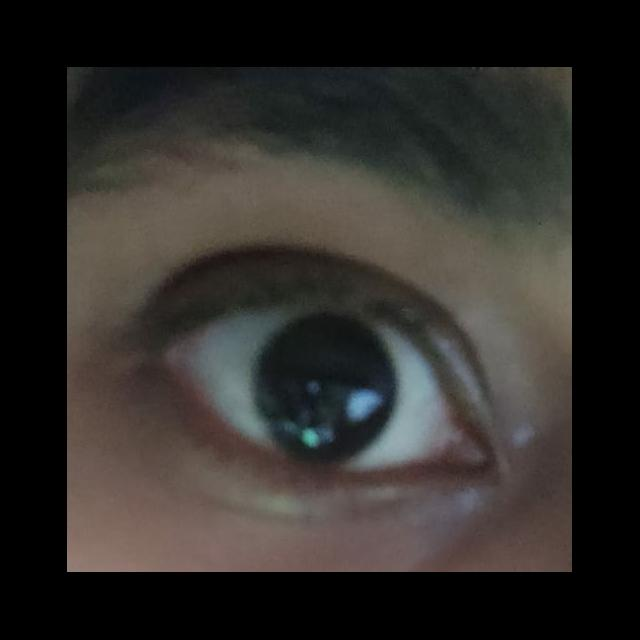eye: (165, 294, 466, 475)
iris: (252, 313, 399, 463)
